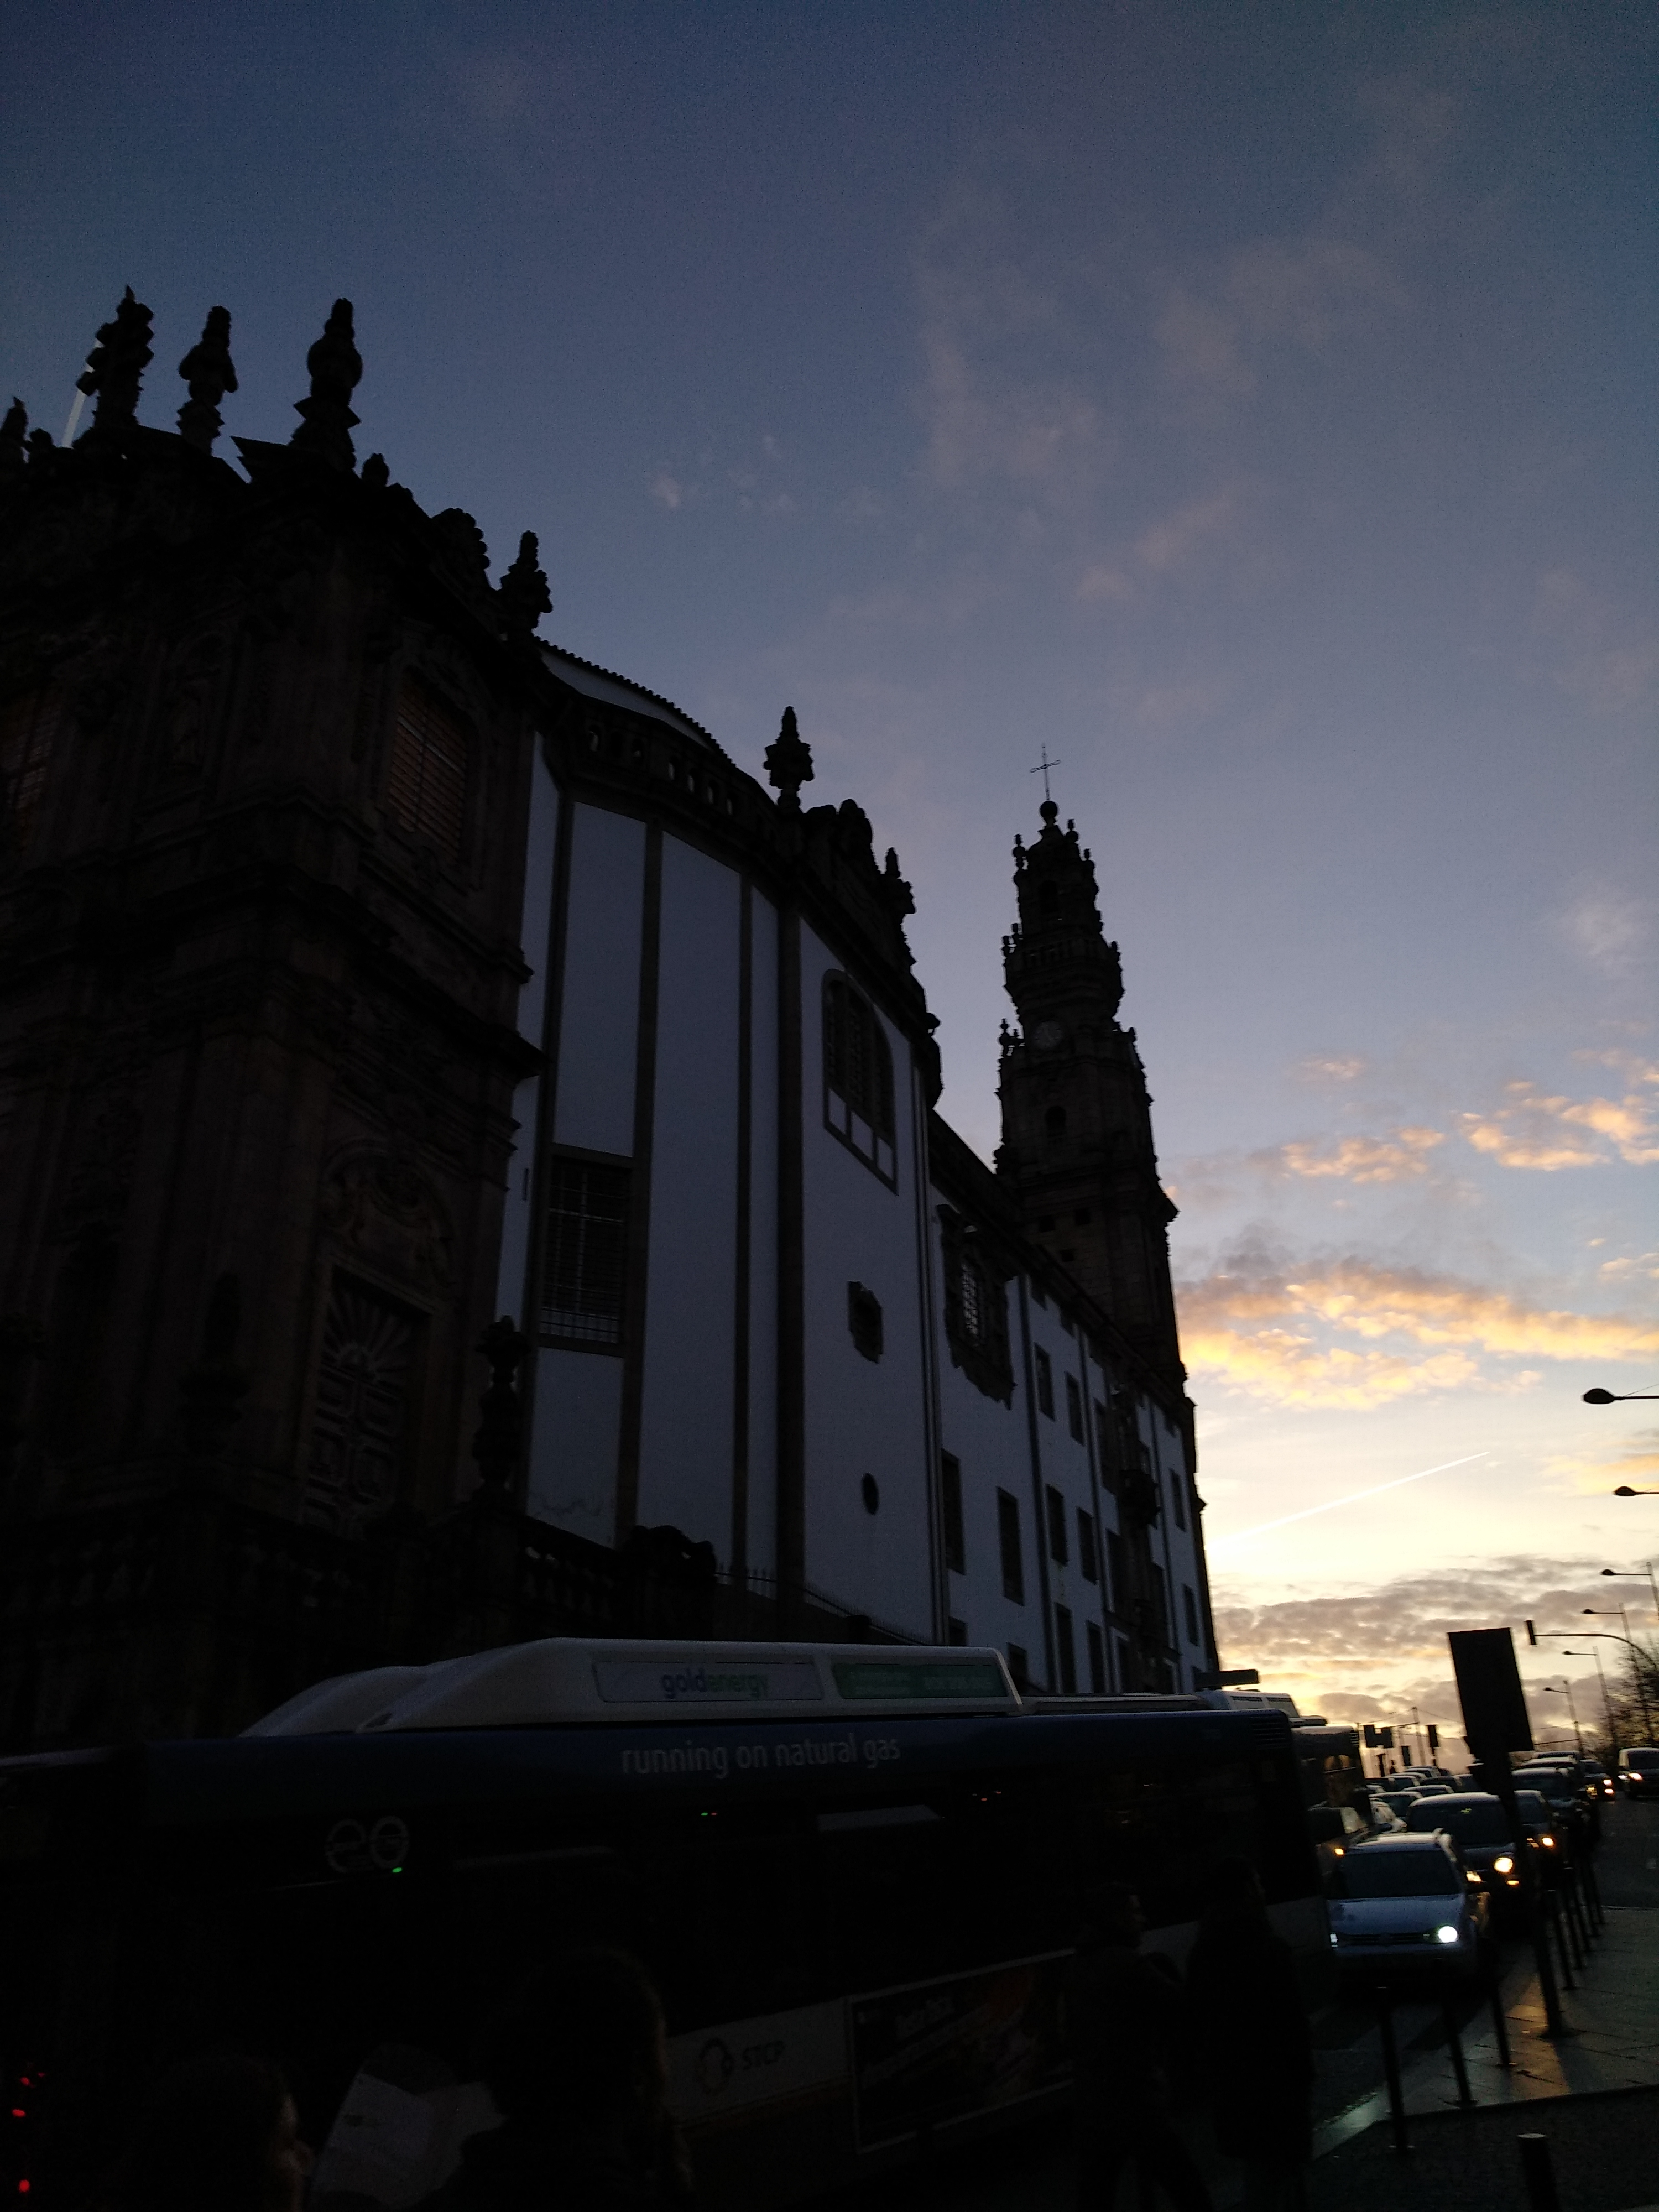clerigos: (251, 664, 946, 733)
